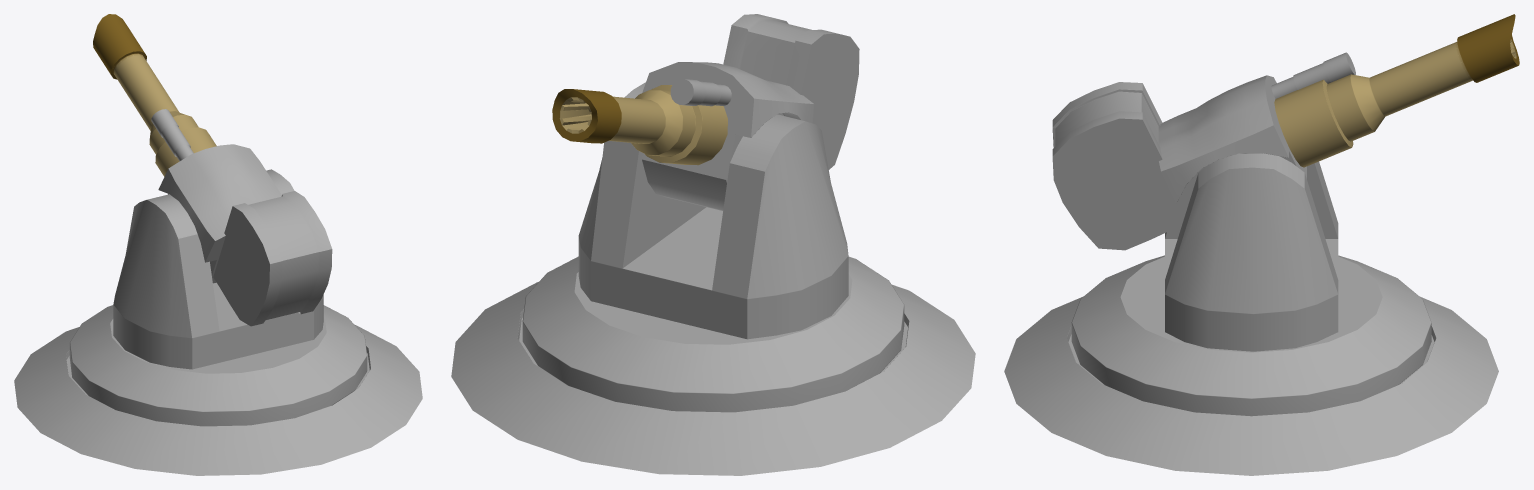
Rendered from Turret_FBX.fbx.
3 views of the same model, side by side, from view 1: azimuth 30°, elevation 25°; view 2: azimuth 150°, elevation 25°; view 3: azimuth 270°, elevation 25° (orthographic). The views are drawn at different scales.
Parts seen in each view (by area): view 1: Turretfoot, Turntable, Angle, Ammo_Cargo, bridge, Gunpipe, Telescope; view 2: Angle, Turretfoot, Turntable, Ammo_Cargo, Gunpipe, bridge, Telescope; view 3: Turretfoot, Turntable, Angle, Ammo_Cargo, Gunpipe, bridge, Telescope.
Boxes of the visible parts, box(x1,y1,x2,y2) form: Turretfoot: box(14, 325, 422, 475); Turntable: box(69, 305, 367, 426); Angle: box(113, 169, 323, 369); Ammo_Cargo: box(213, 191, 332, 326); bridge: box(158, 144, 281, 283); Gunpipe: box(93, 14, 216, 176); Telescope: box(151, 109, 193, 161); Angle: box(578, 82, 848, 339); Turretfoot: box(451, 282, 975, 475); Turntable: box(522, 256, 904, 412); Ammo_Cargo: box(723, 14, 859, 169); Gunpipe: box(552, 85, 727, 165); bridge: box(642, 62, 814, 210); Telescope: box(670, 79, 731, 106); Turretfoot: box(1004, 296, 1498, 475); Turntable: box(1071, 255, 1431, 416); Angle: box(1165, 153, 1338, 351); Ammo_Cargo: box(1052, 82, 1184, 250); Gunpipe: box(1274, 14, 1519, 167); bridge: box(1158, 75, 1306, 214); Telescope: box(1271, 52, 1355, 98).
Bounding box in the file's own units: 20 × 15.86 × 20.84.
